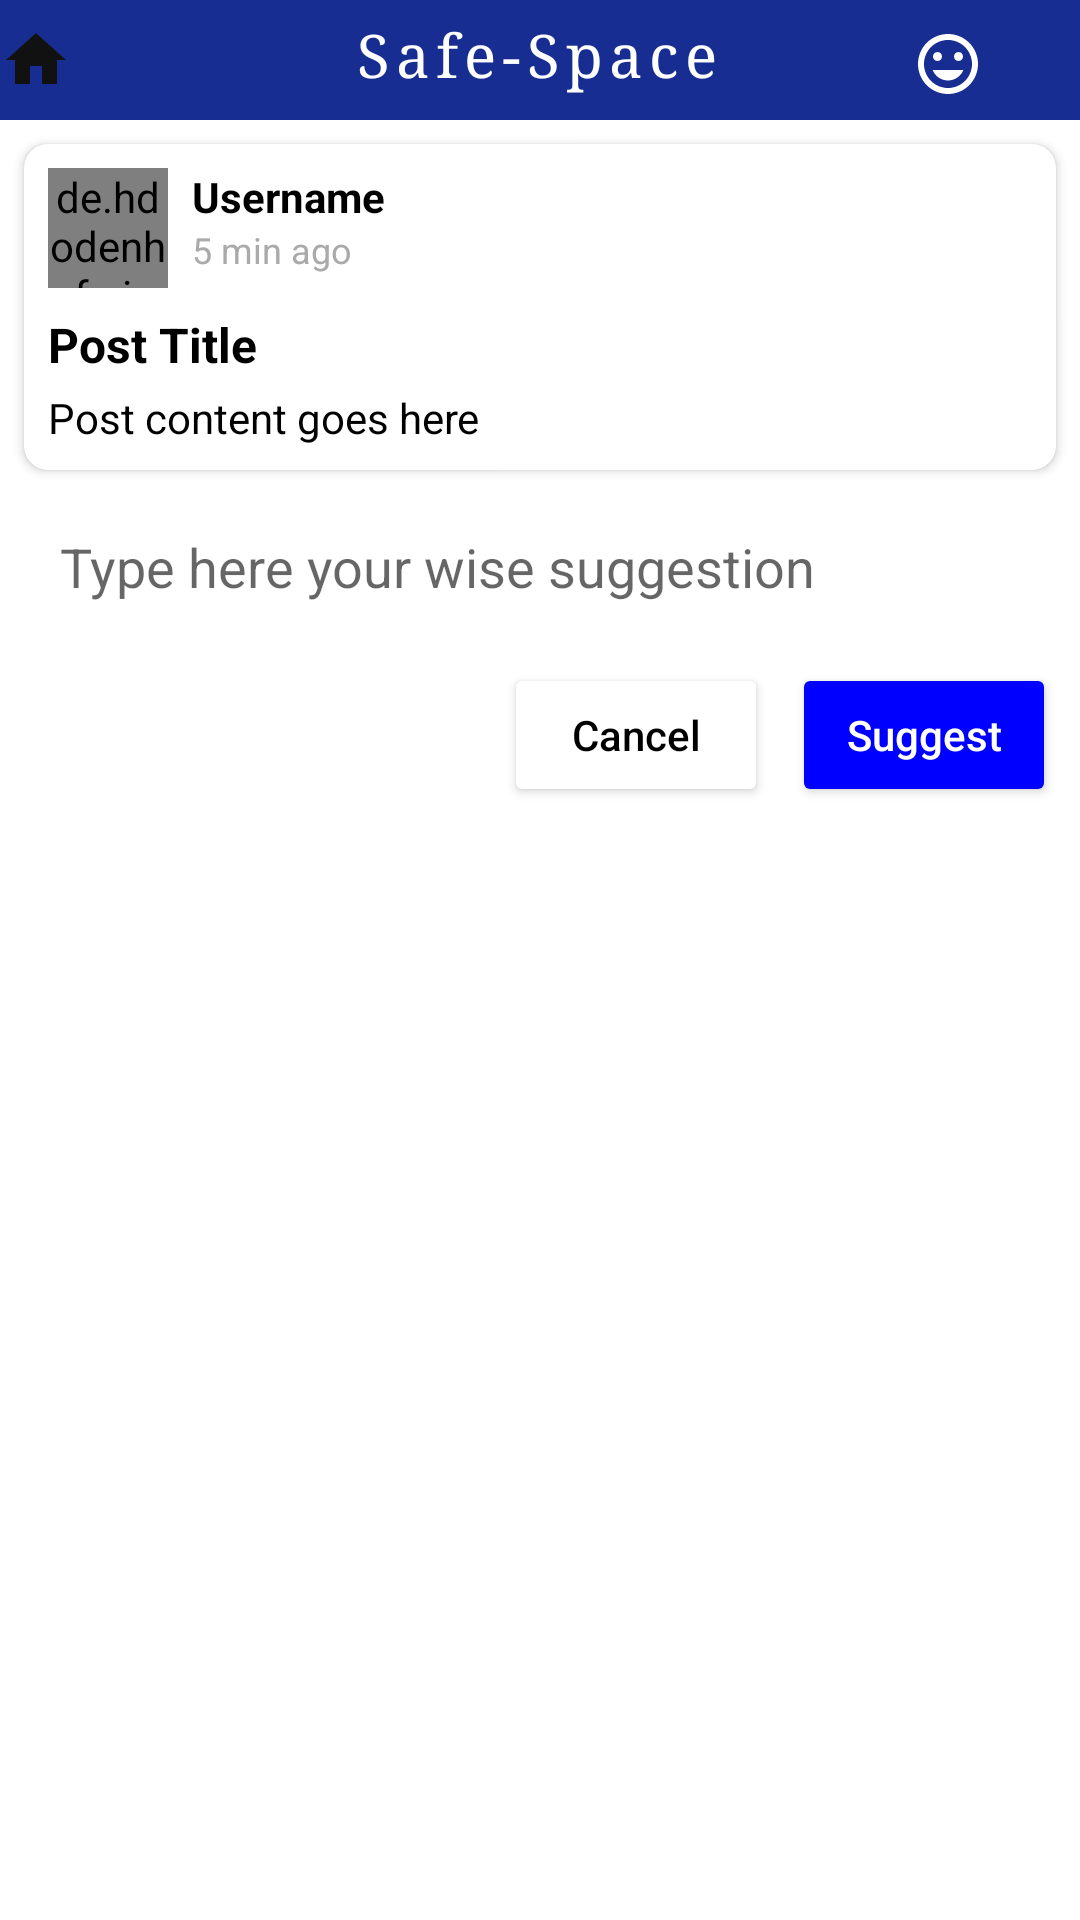

Icon click points for this 1080px x 1920px phone screenshot, format point (x, y):
Smile: point (948, 64)
